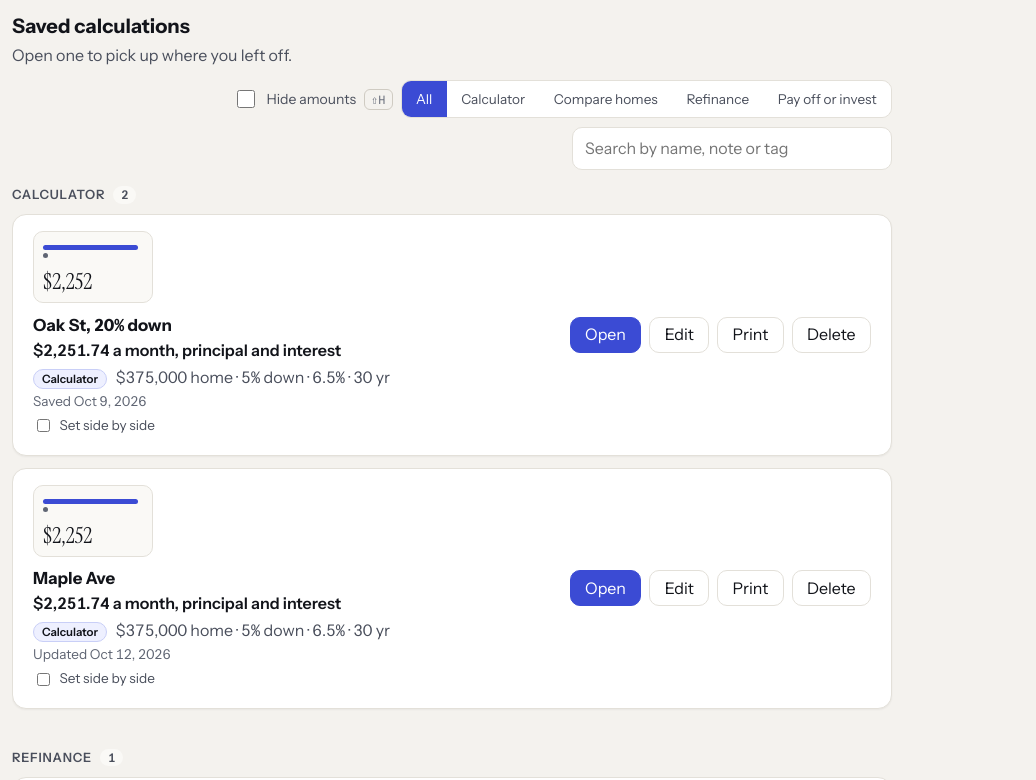
HistoryPageComponent › the list › shows one group, without a title of its own, when a kind is chosen
The image size is (1036, 780).
Click the button with test id "kind-filter-Refinance": (718, 99) [672,81,763,117]
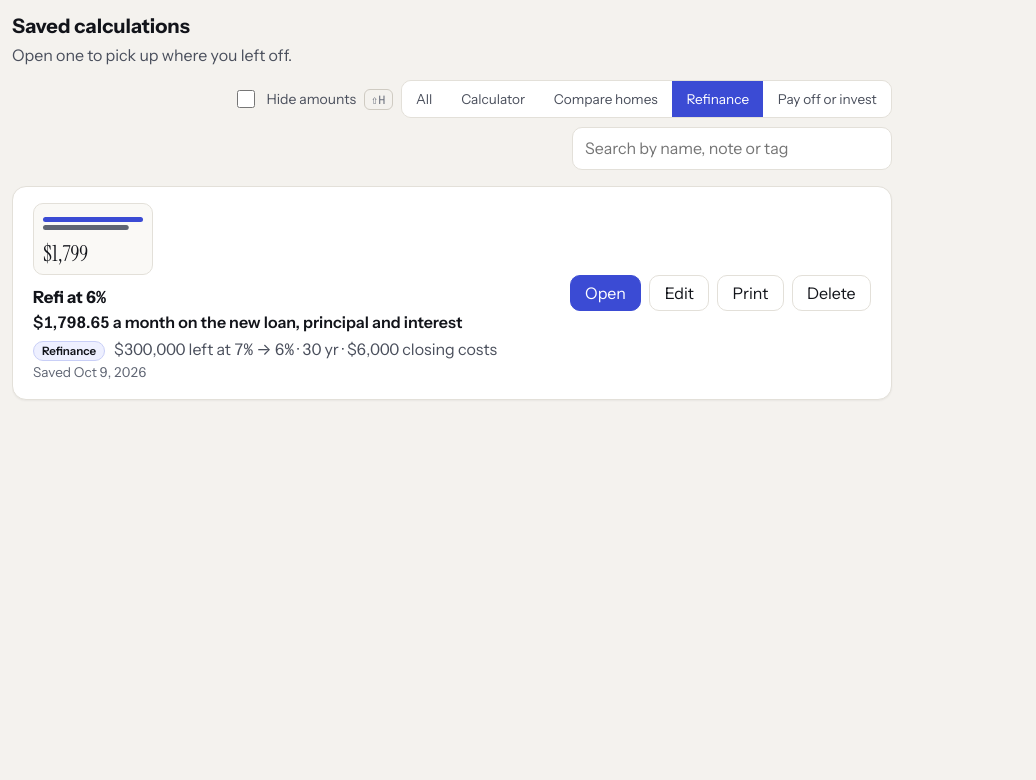
Expected: the number of elements with test id "history-group" is 1, [12,186,892,400]
Expected: the heading with class "group-title" is gone
